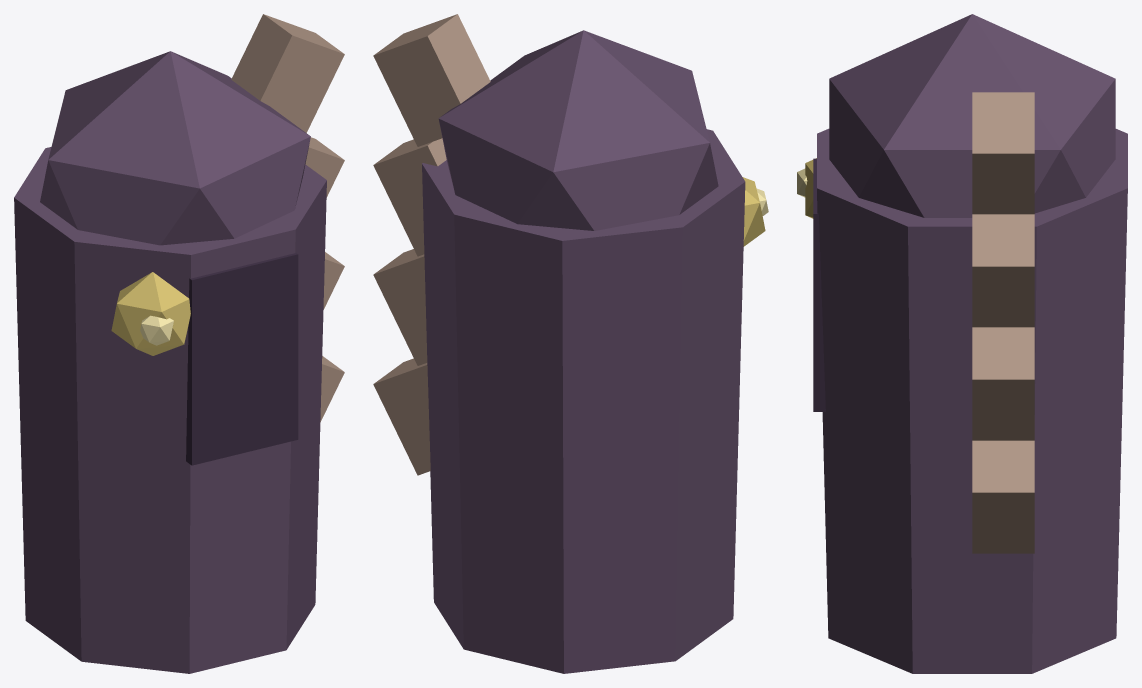
Rendered from inf_v2_brute_lower_arm_l.fbx.
The picture shows the model from 3 angles, left to right: view 1: azimuth 30°, elevation 25°; view 2: azimuth 150°, elevation 25°; view 3: azimuth 270°, elevation 25°; orthographic projection. The views are drawn at different scales.
Parts seen in each view (by area): view 1: inf_v2_brute_lower_arm_l; view 2: inf_v2_brute_lower_arm_l; view 3: inf_v2_brute_lower_arm_l.
Boxes of the visible parts, x1,y1,x2,y2 form: inf_v2_brute_lower_arm_l: [14, 14, 344, 673]; inf_v2_brute_lower_arm_l: [373, 14, 768, 673]; inf_v2_brute_lower_arm_l: [797, 14, 1127, 673].
Bounding box in the file's own units: 119 × 212 × 106.
